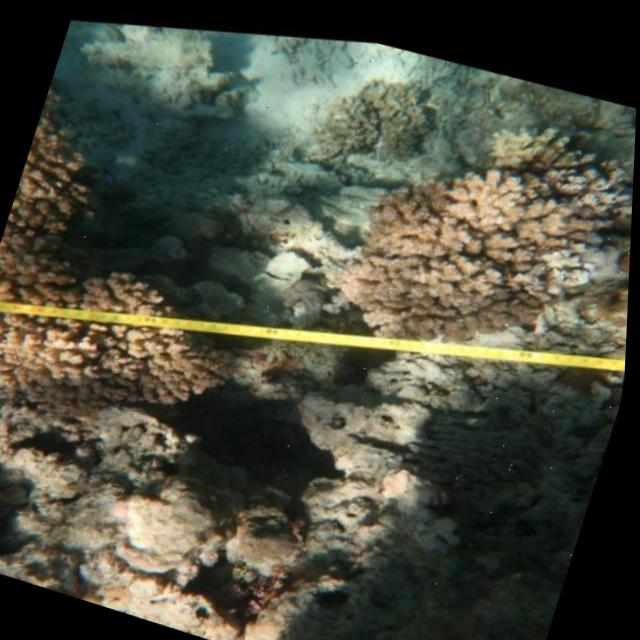Healthy Coral: (312, 76, 637, 393), (0, 206, 249, 455), (1, 56, 127, 264)
